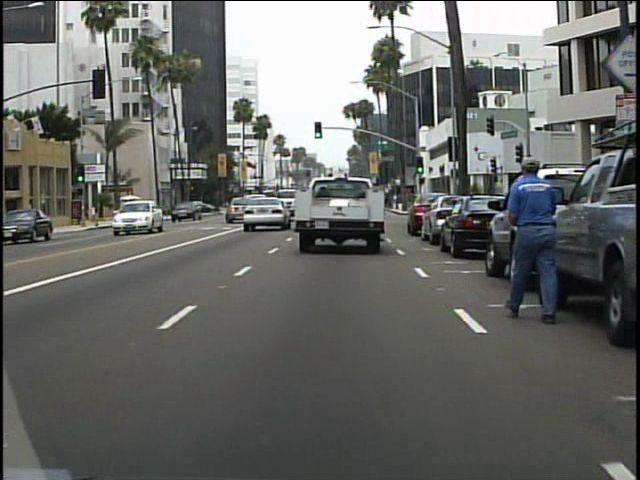person: (492, 146, 573, 330)
